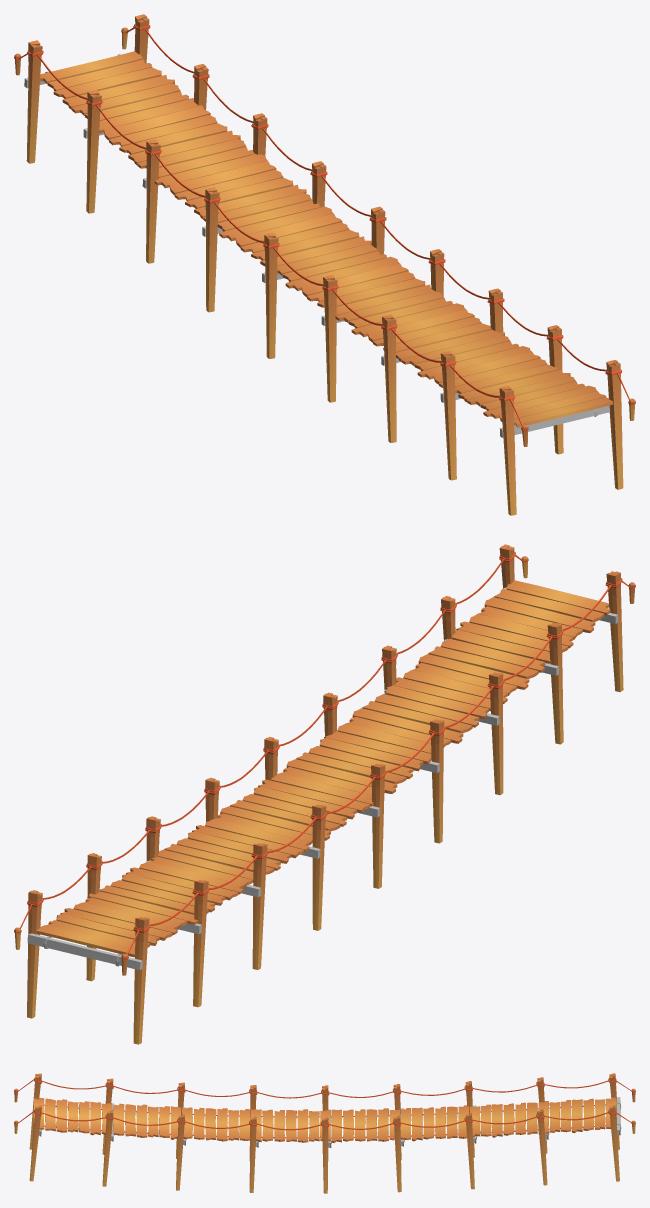
Rendered from bridgeunwrapped 1.fbx.
3 renders of one model, top to bottom at view 1: azimuth 30°, elevation 25°; view 2: azimuth 150°, elevation 25°; view 3: azimuth 270°, elevation 25°, orthographic. The views are drawn at different scales.
Parts seen in each view (by area): view 1: PlanksApplied, PolesApplied, SupportplanksApplied; view 2: PlanksApplied, PolesApplied, SupportplanksApplied; view 3: PlanksApplied, PolesApplied, SupportplanksApplied, SmallerPole.
Boxes of the visible parts, x1,y1,x2,y2 form: PlanksApplied: (40,51,613,427); PolesApplied: (26,14,623,515); SupportplanksApplied: (24,54,609,437); PlanksApplied: (36,580,610,957); PolesApplied: (27,544,623,1044); SupportplanksApplied: (27,587,618,970); PlanksApplied: (33,1097,616,1142); PolesApplied: (29,1073,619,1193); SupportplanksApplied: (39,1097,621,1147); SmallerPole: (14,1088,635,1133).
Bounding box in the file's own units: 1513 × 1717 × 11195.
